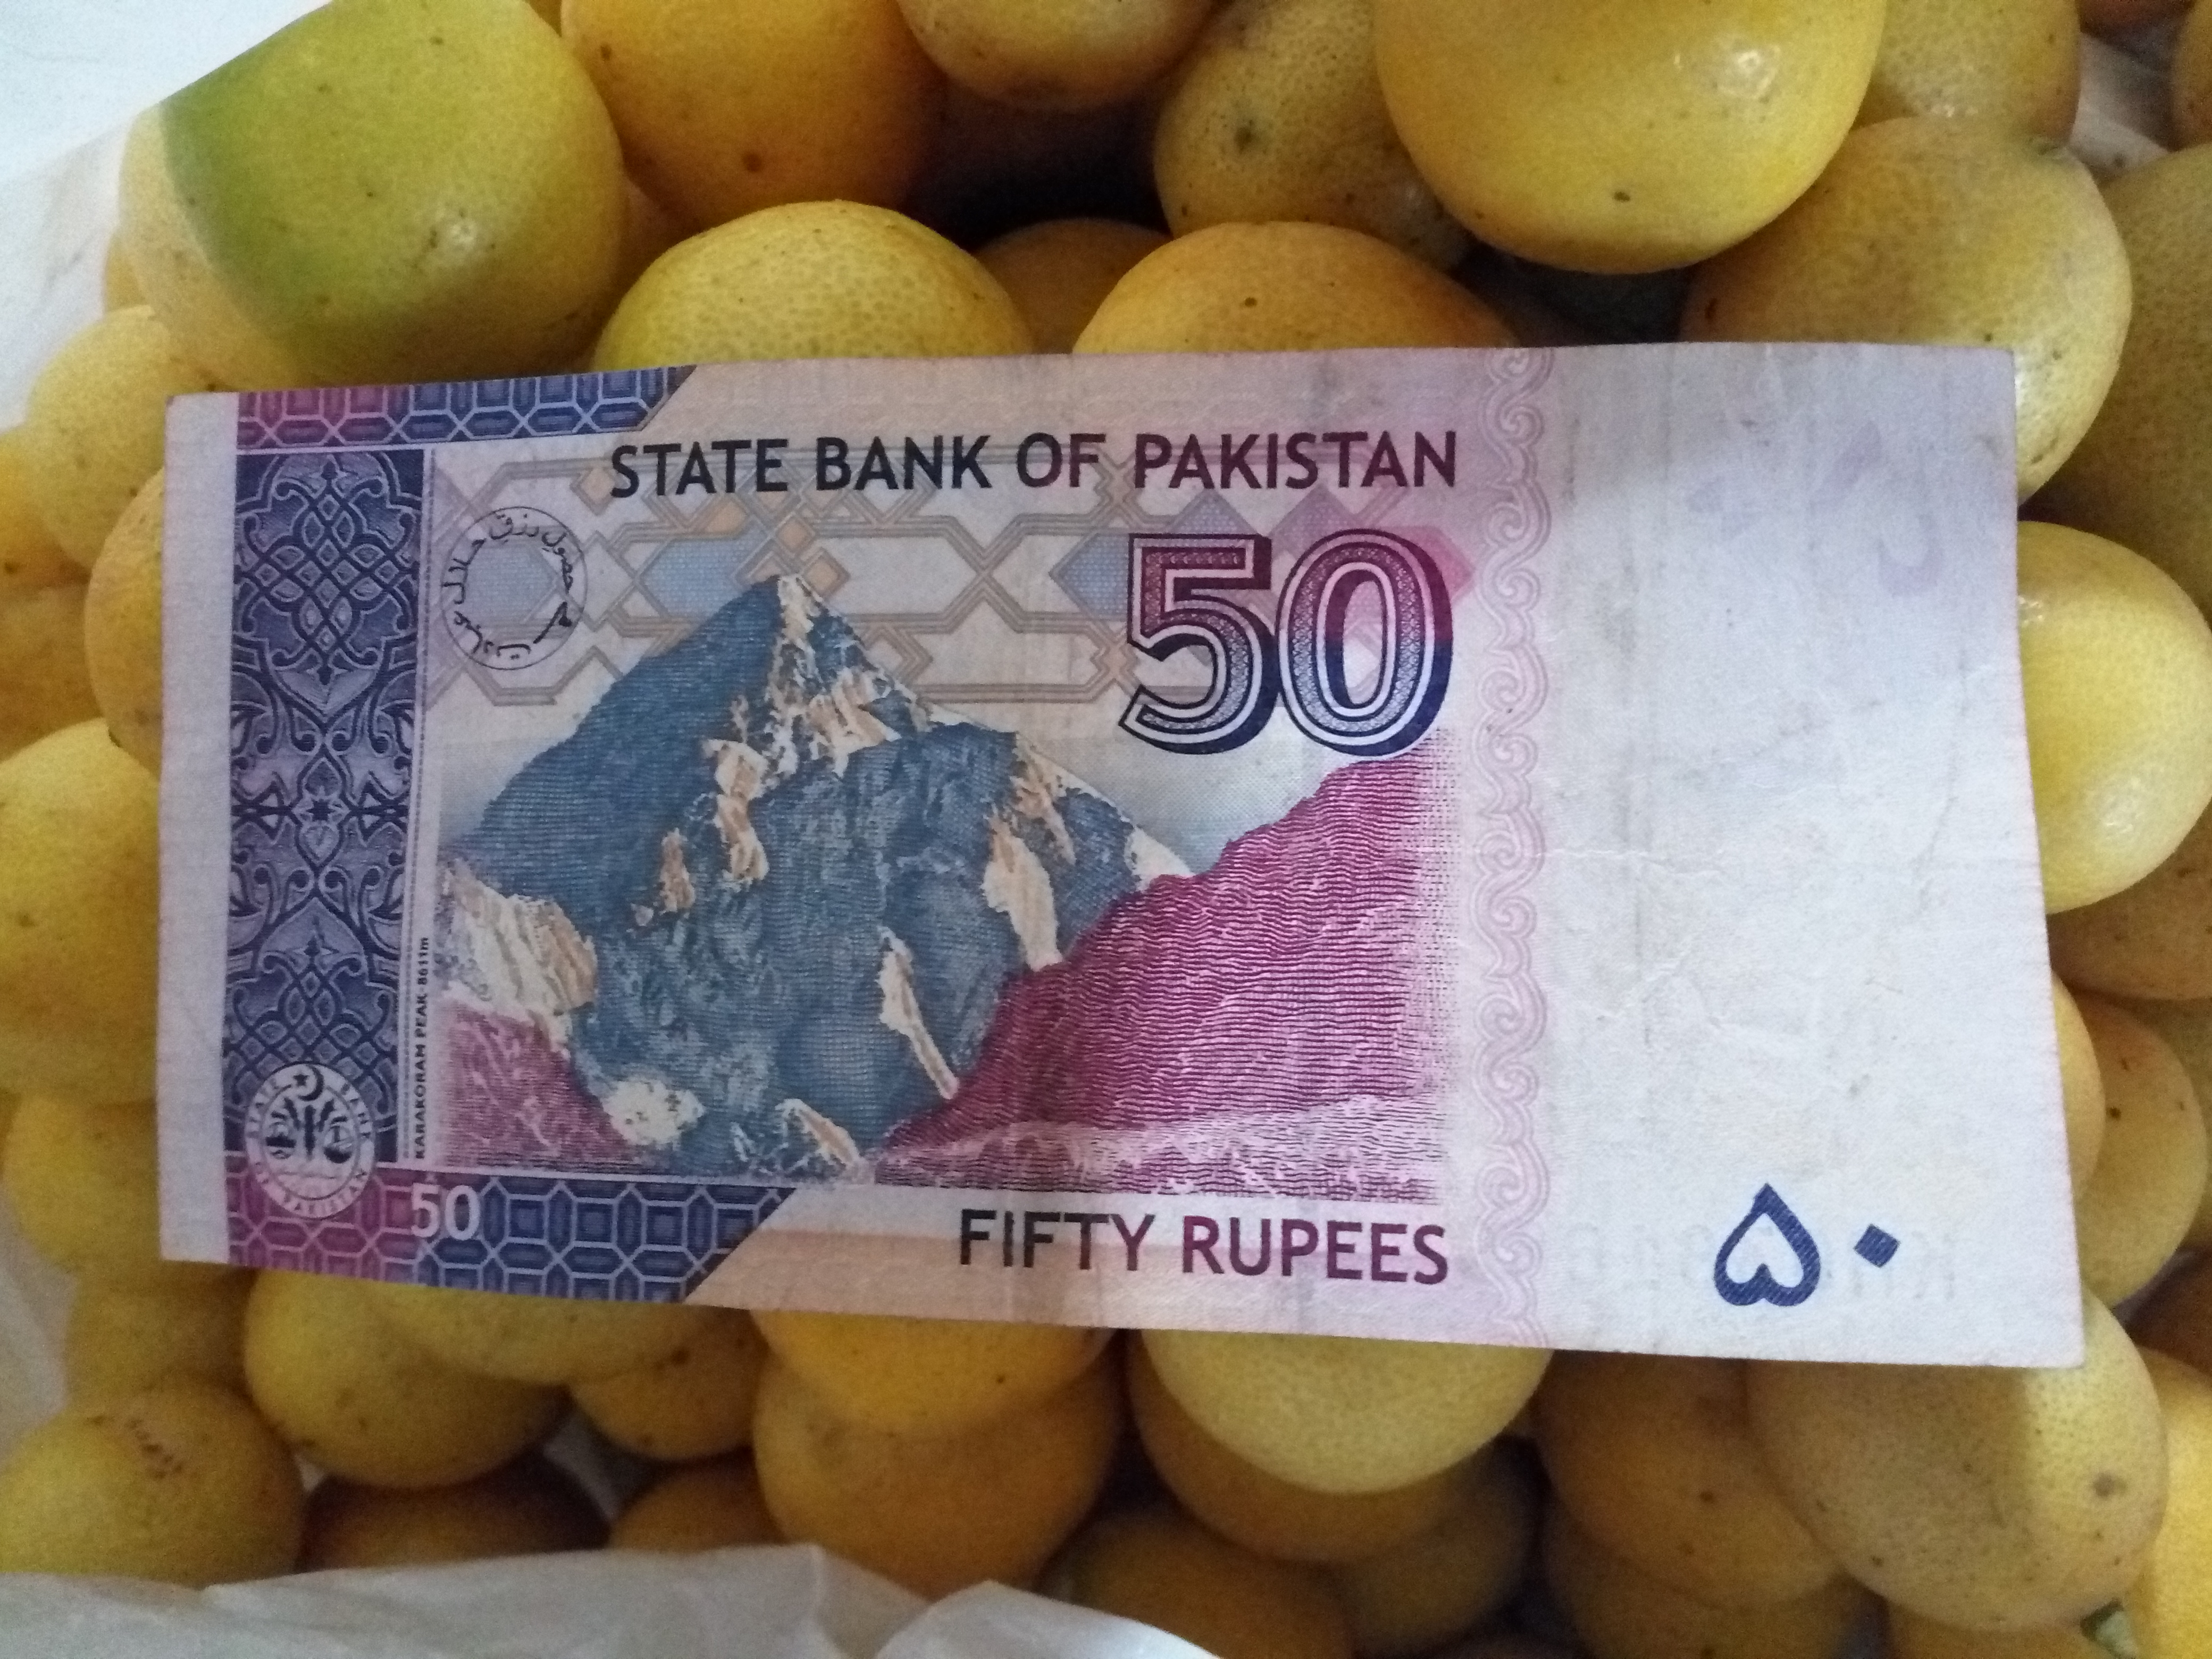50 rupee: (139, 343, 2127, 1443)
